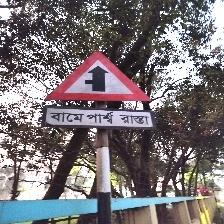Side-road-left: (42, 50, 158, 132)
